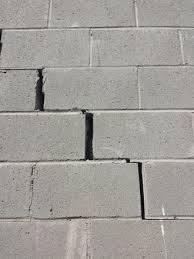stairstep_crack: (0, 66, 193, 220)
